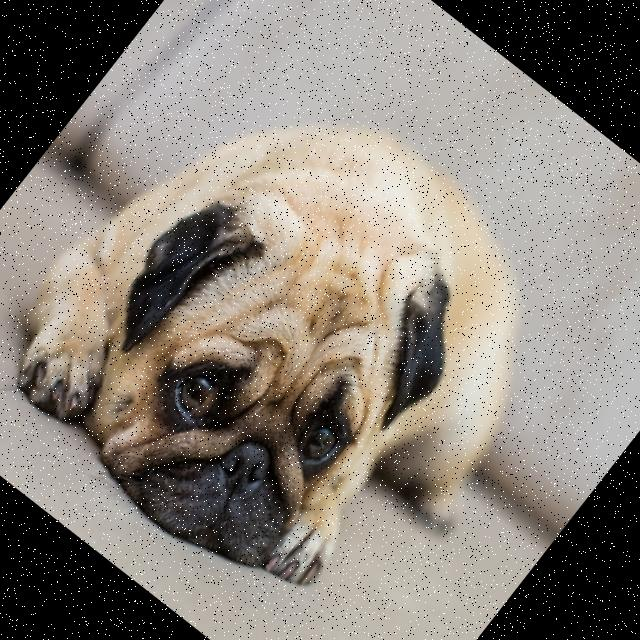Dog: (0, 18, 622, 640)
